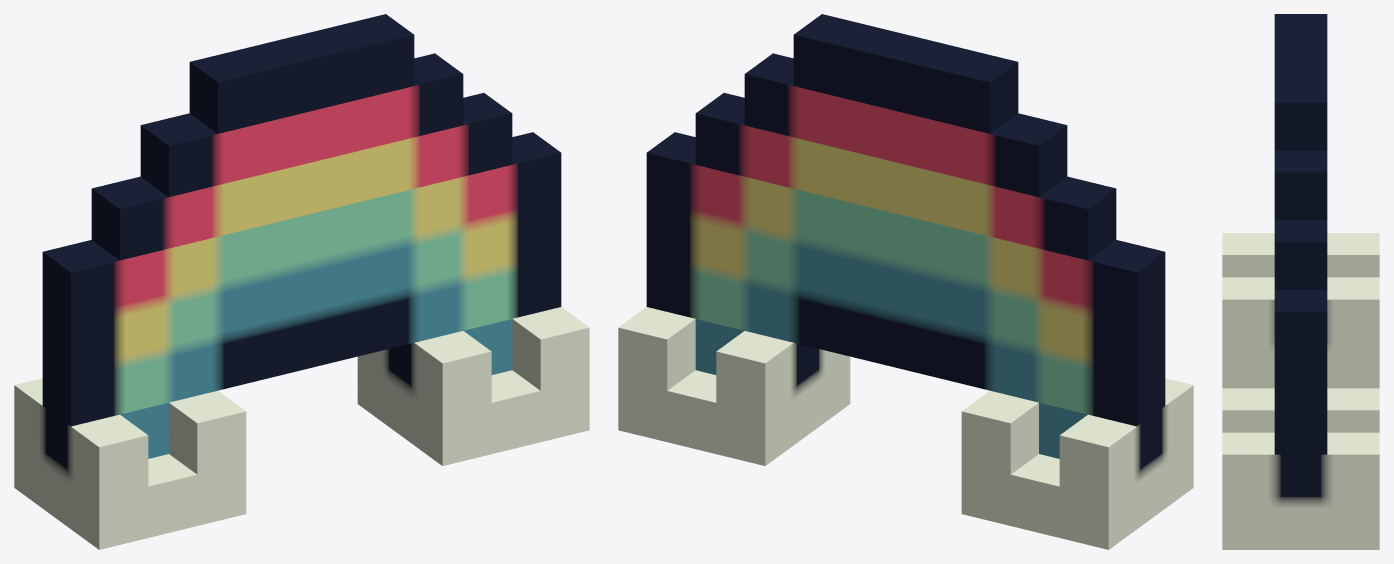
The model's file is PowerUpvox.fbx.
The picture shows the model from 3 angles, left to right: view 1: azimuth 30°, elevation 25°; view 2: azimuth 150°, elevation 25°; view 3: azimuth 270°, elevation 25°; orthographic projection. The views are drawn at different scales.
Visible parts, largest first — view 1: Object; view 2: Object; view 3: Object.
Boxes of the visible parts, x1=… form: Object: x1=14, y1=14, x2=589, y2=549; Object: x1=618, y1=14, x2=1193, y2=549; Object: x1=1222, y1=14, x2=1379, y2=549.
Size of the model in its own units: 10 by 8 by 3.
